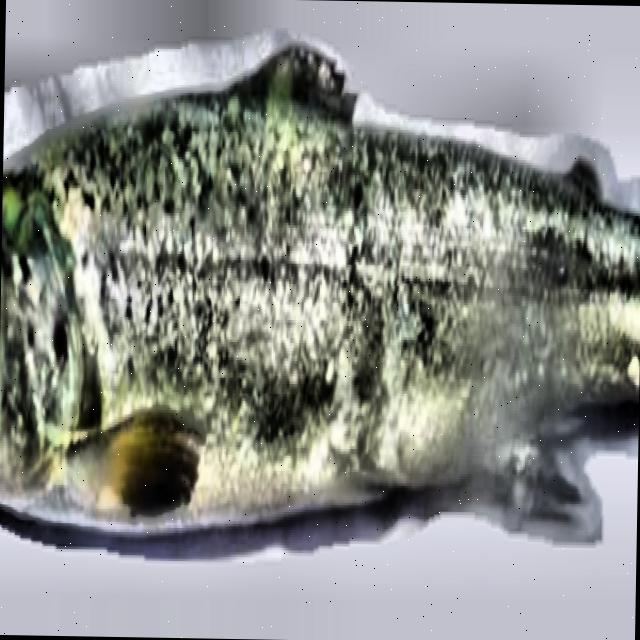mild_red: (0, 68, 640, 524)
